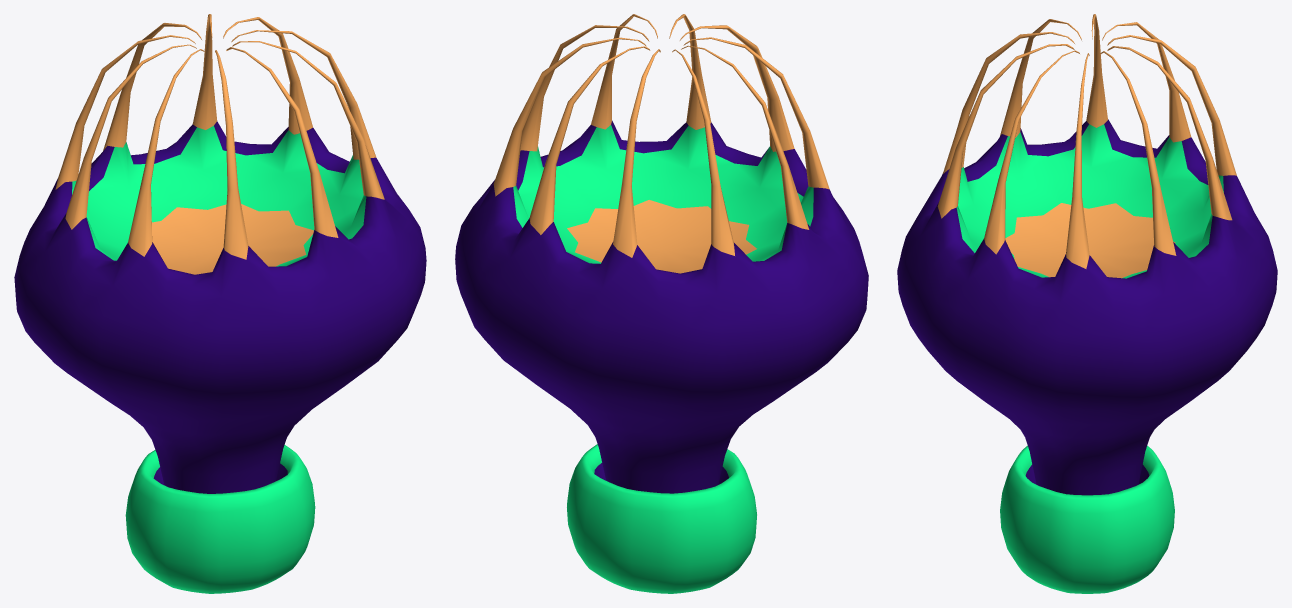
The model's file is pore3.fbx.
3 renders of one model, left to right at view 1: azimuth 30°, elevation 25°; view 2: azimuth 150°, elevation 25°; view 3: azimuth 270°, elevation 25°, orthographic.
Visible parts, largest first — view 1: spore3; view 2: spore3; view 3: spore3.
Boxes of the visible parts, left/top/right/bottom form: spore3: left=14, top=14, right=426, bottom=593; spore3: left=455, top=14, right=868, bottom=593; spore3: left=897, top=14, right=1277, bottom=593.
Size of the model in its own units: 83.56 by 119 by 76.87.
